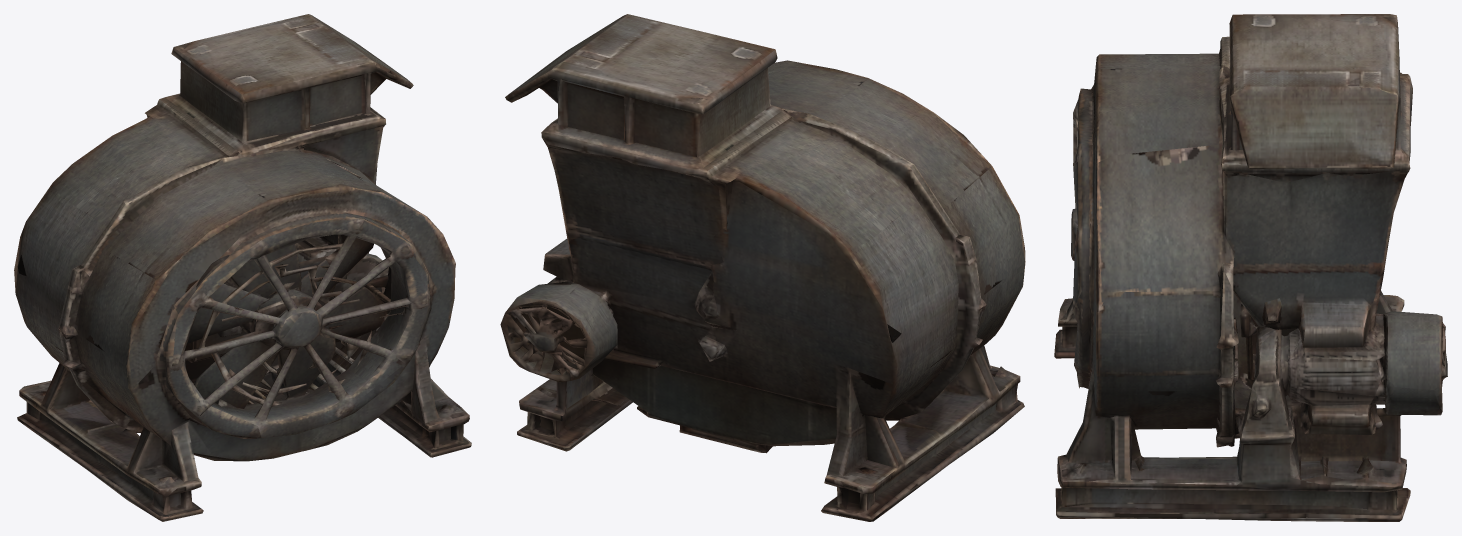
File: shelter_service_fan.glb
The picture shows the model from 3 angles, left to right: view 1: azimuth 30°, elevation 25°; view 2: azimuth 150°, elevation 25°; view 3: azimuth 270°, elevation 25°; orthographic projection. The views are drawn at different scales.
Size of the model in its own units: 3.1 by 2.8 by 2.4.
Materials: 1 (1 with a texture image).
